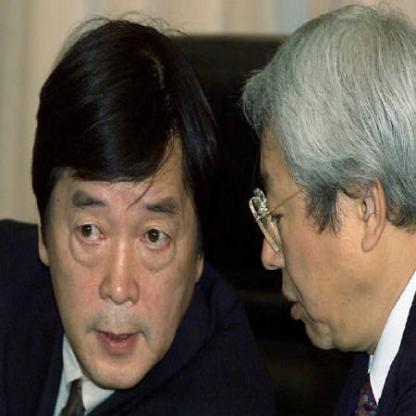face: (47, 41, 203, 392), (241, 66, 361, 358)
